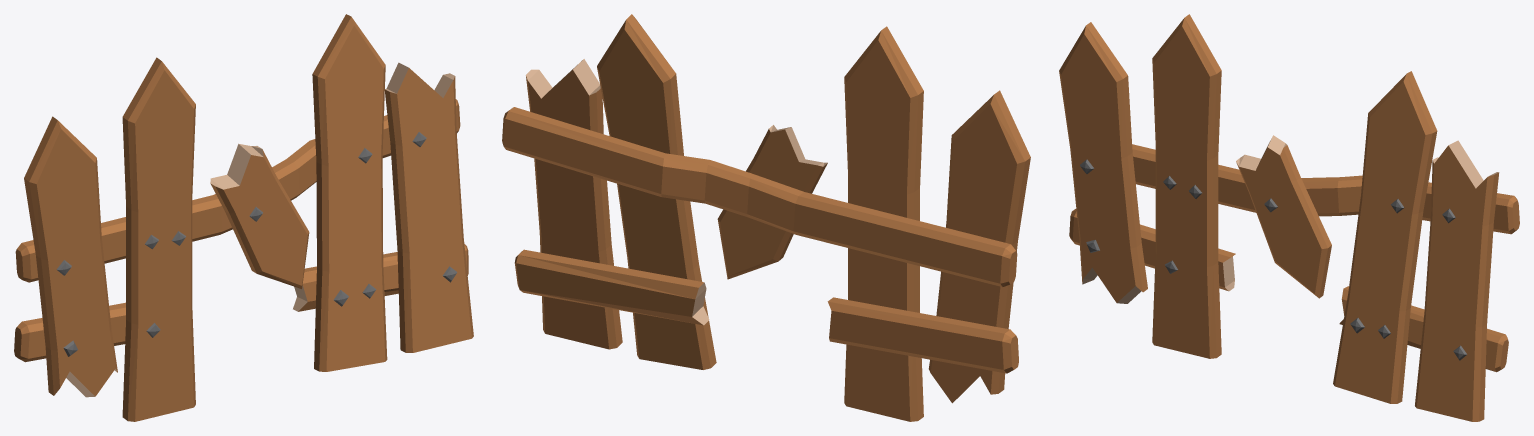
The model's file is Fence_3.glb.
3 renders of one model, left to right at view 1: azimuth 30°, elevation 25°; view 2: azimuth 150°, elevation 25°; view 3: azimuth 330°, elevation 25°, orthographic. The views are drawn at different scales.
Bounding box in the file's own units: 49.93 × 37.12 × 7.24.
1 material, 1 textured.
